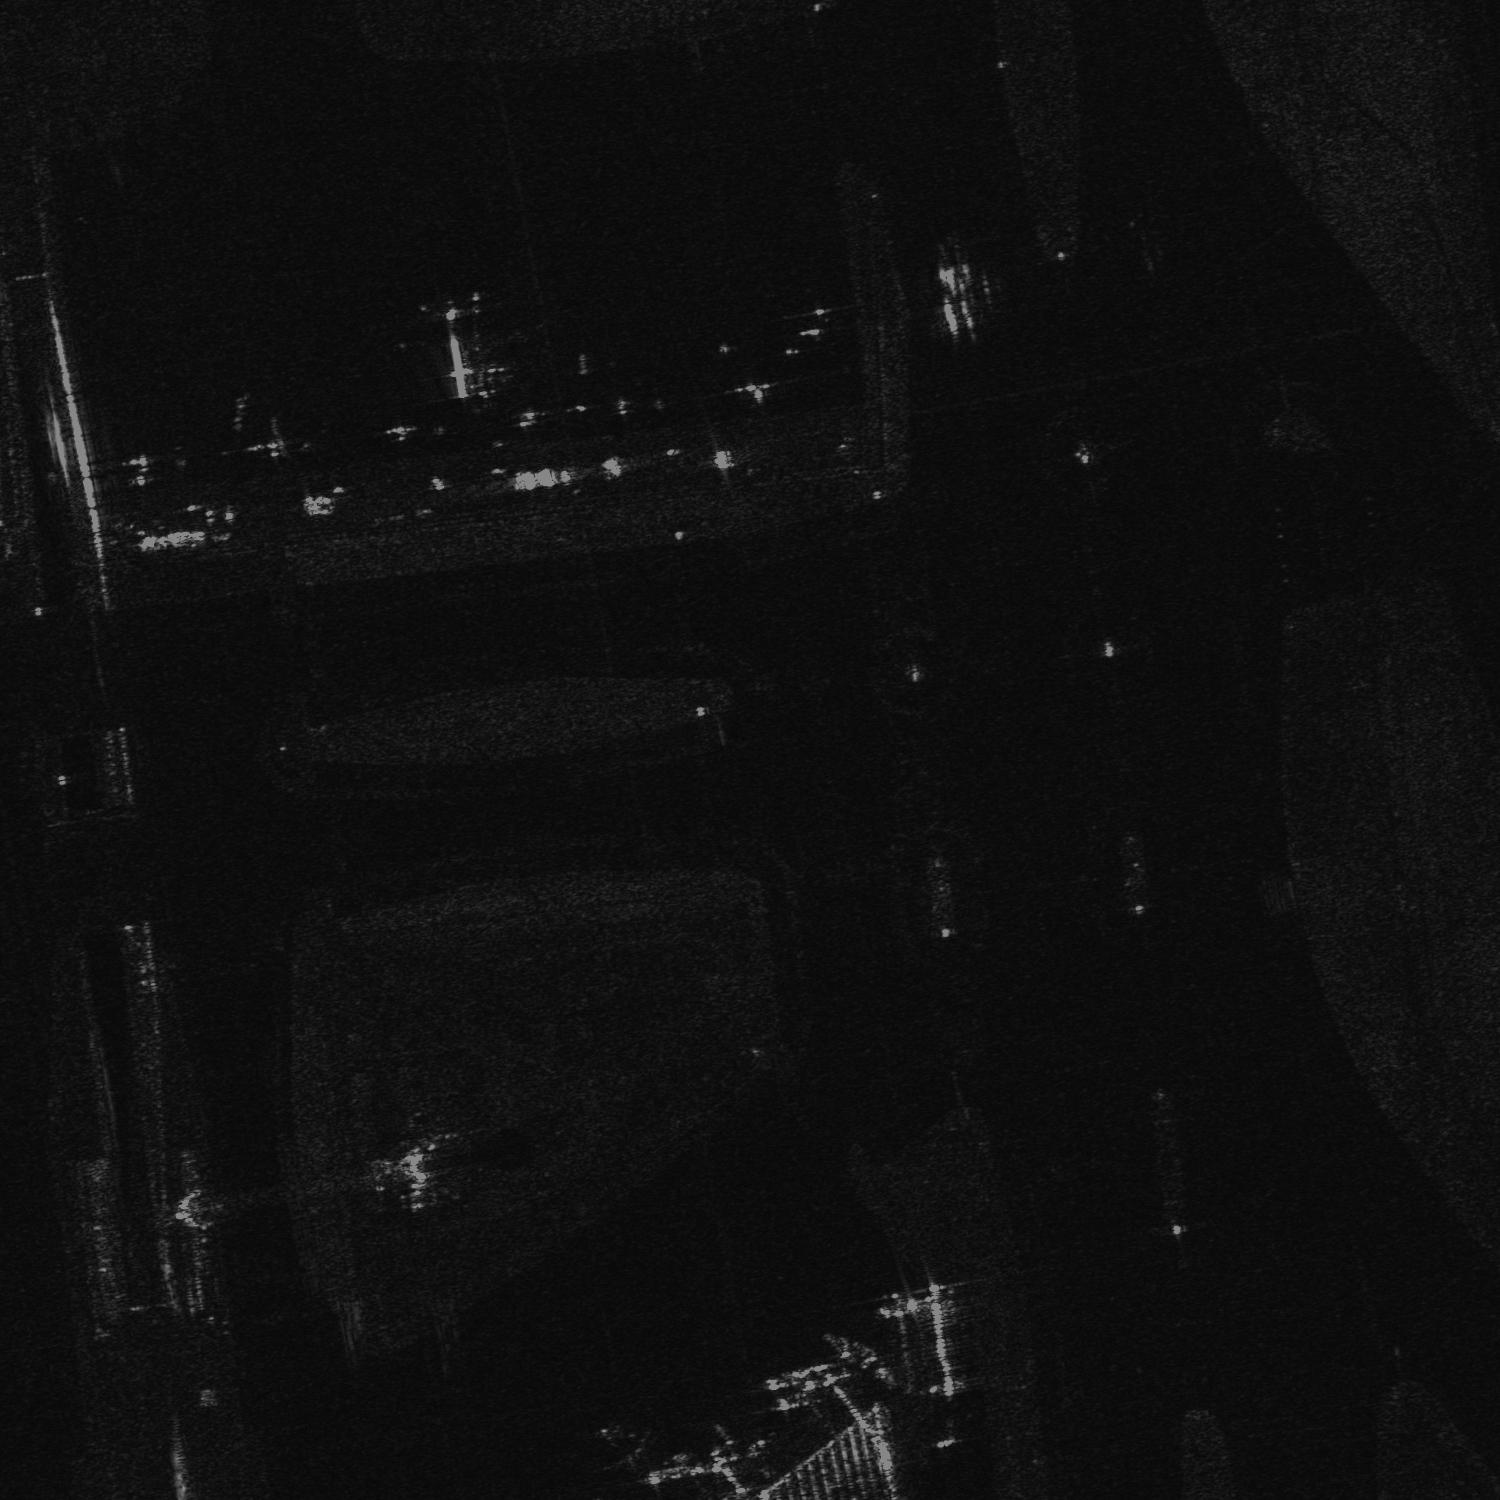Boeing787: (385, 295, 538, 408), (592, 1423, 652, 1474)
